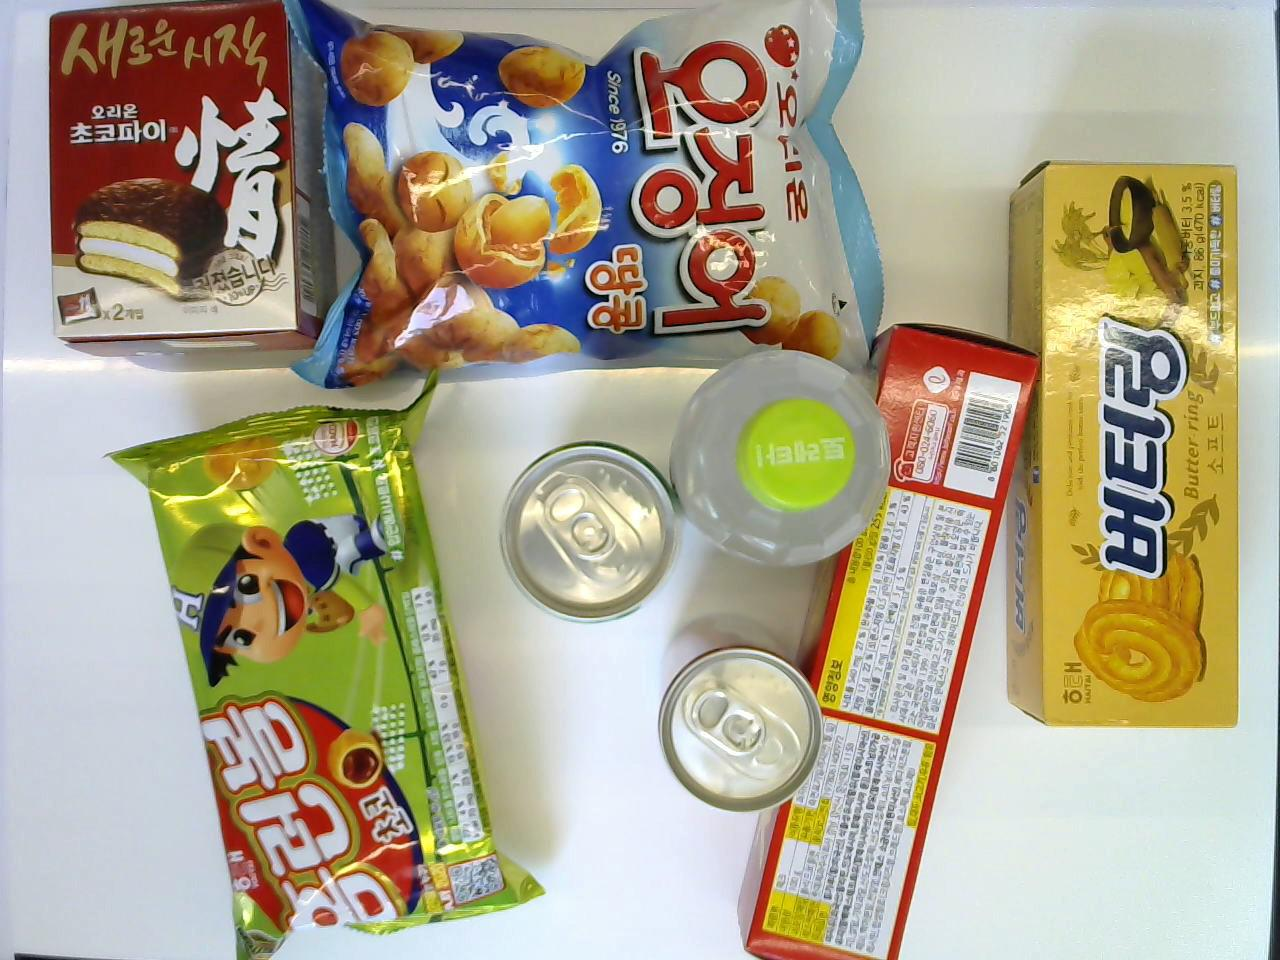buttering: (1004, 162, 1239, 728)
chocopie: (46, 0, 340, 356)
cidar: (498, 439, 678, 621)
coke: (649, 615, 821, 813)
homerunball: (100, 369, 537, 960)
squid_peanut: (286, 0, 880, 384)
toreta: (666, 344, 895, 561)
zec: (732, 324, 1038, 958)
